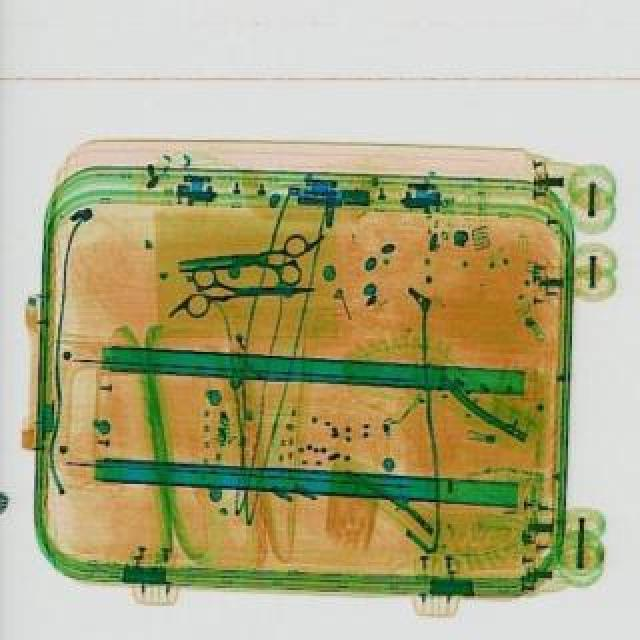pliers: (176, 232, 308, 290), (184, 262, 314, 316)
